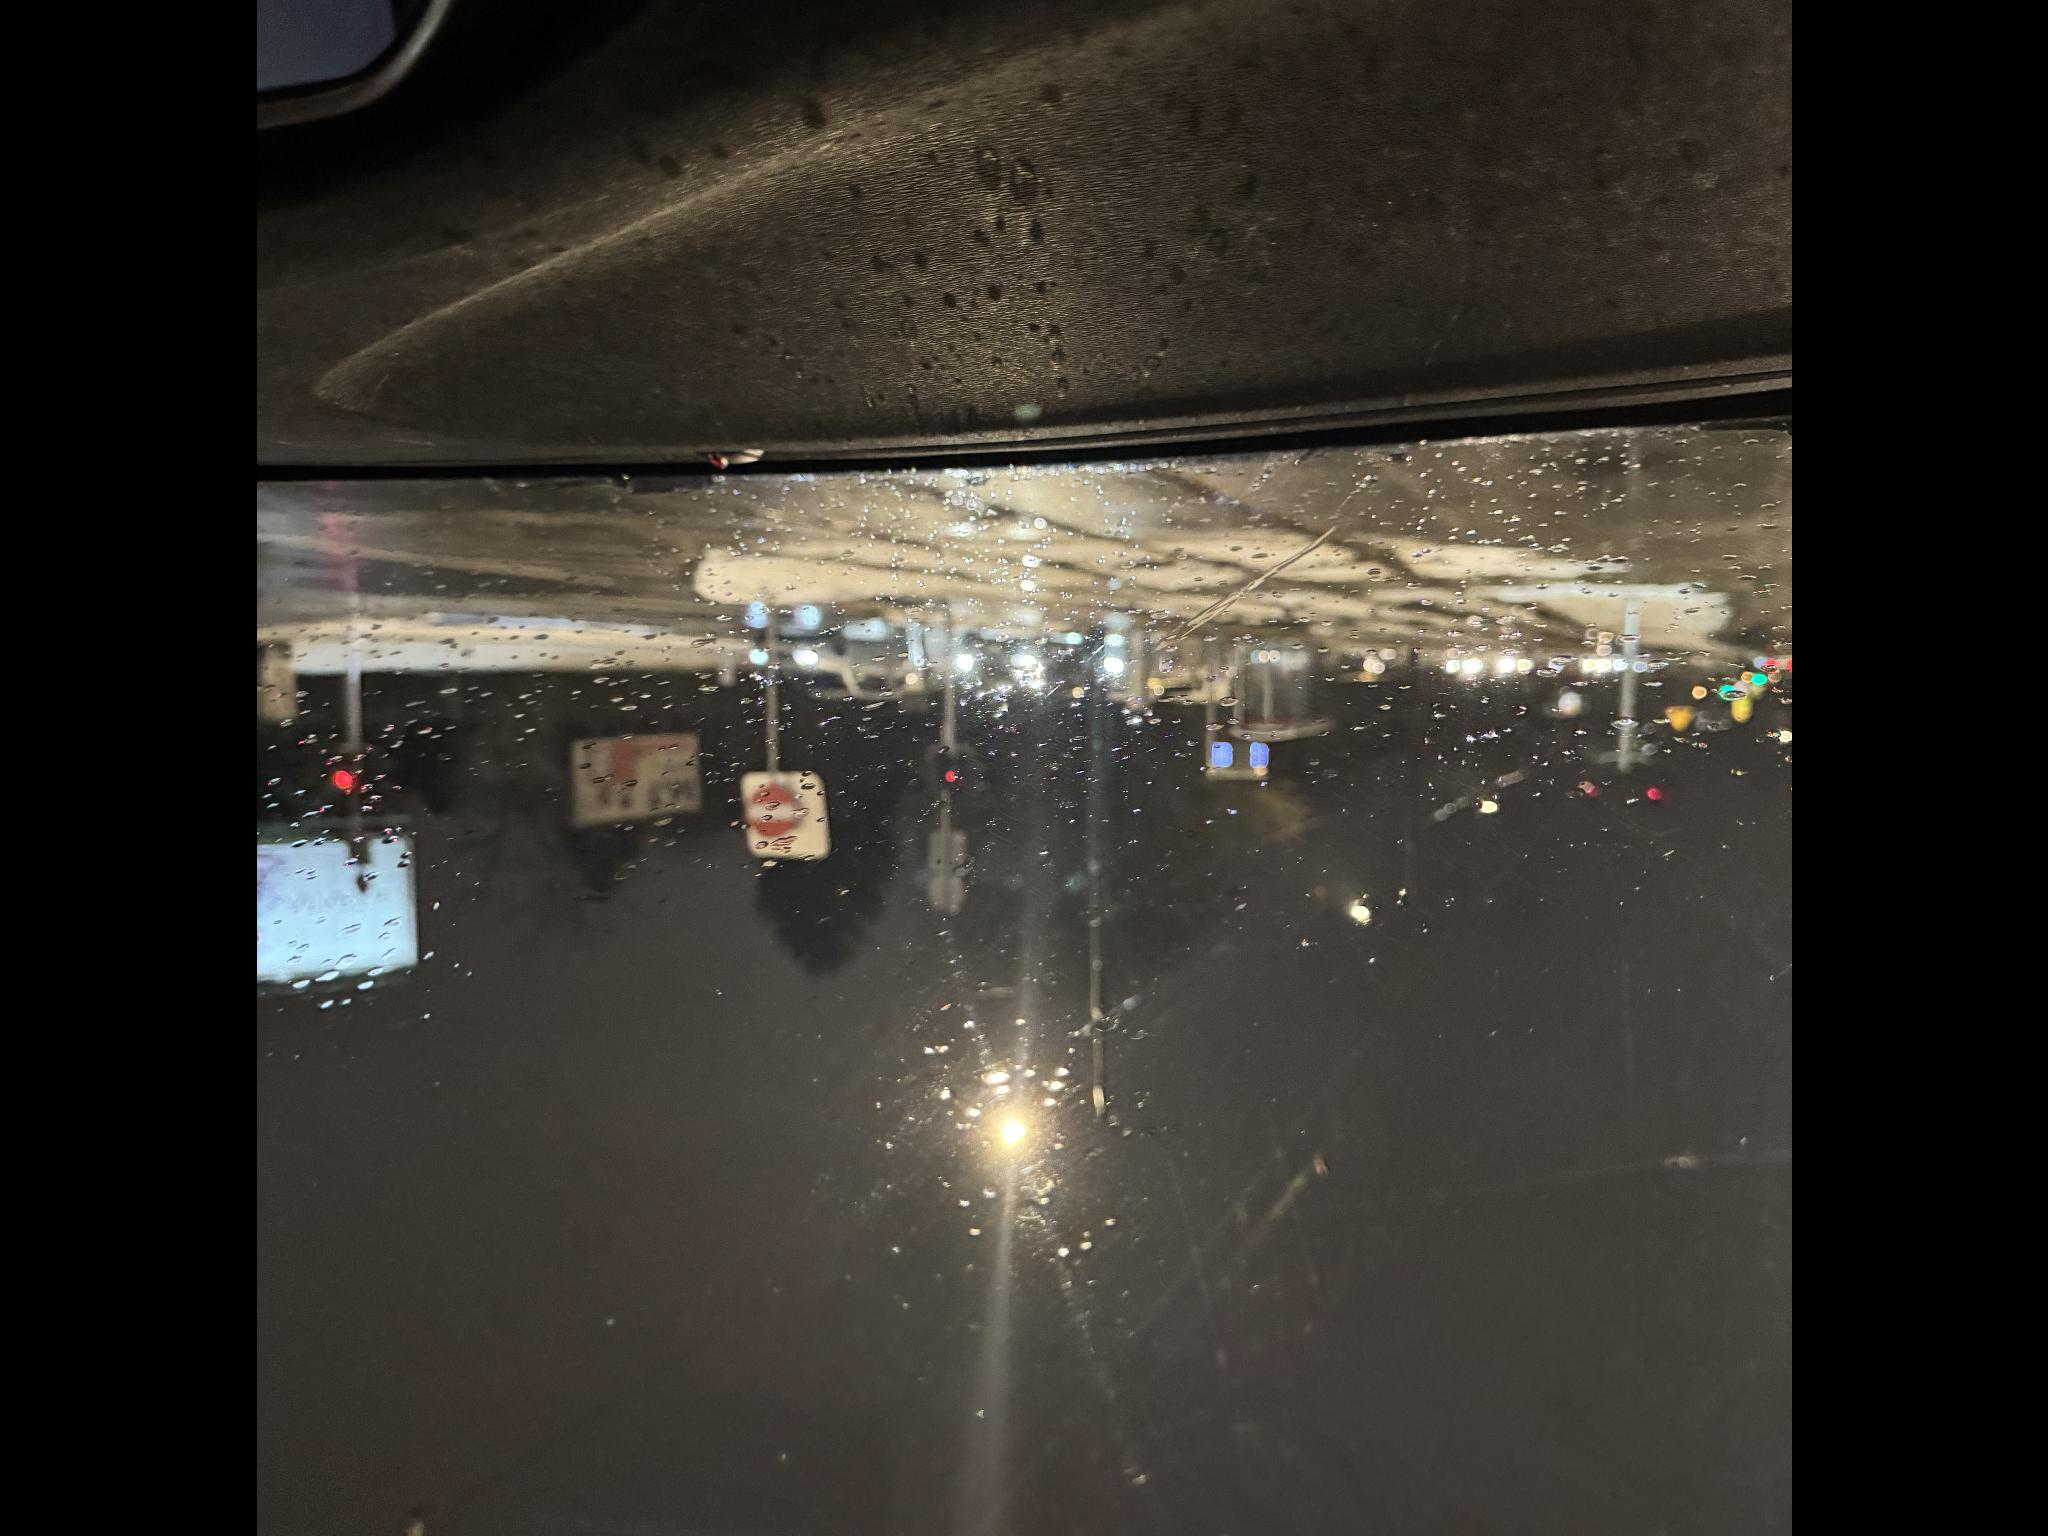prohibitory: (784, 1249, 839, 1304)
